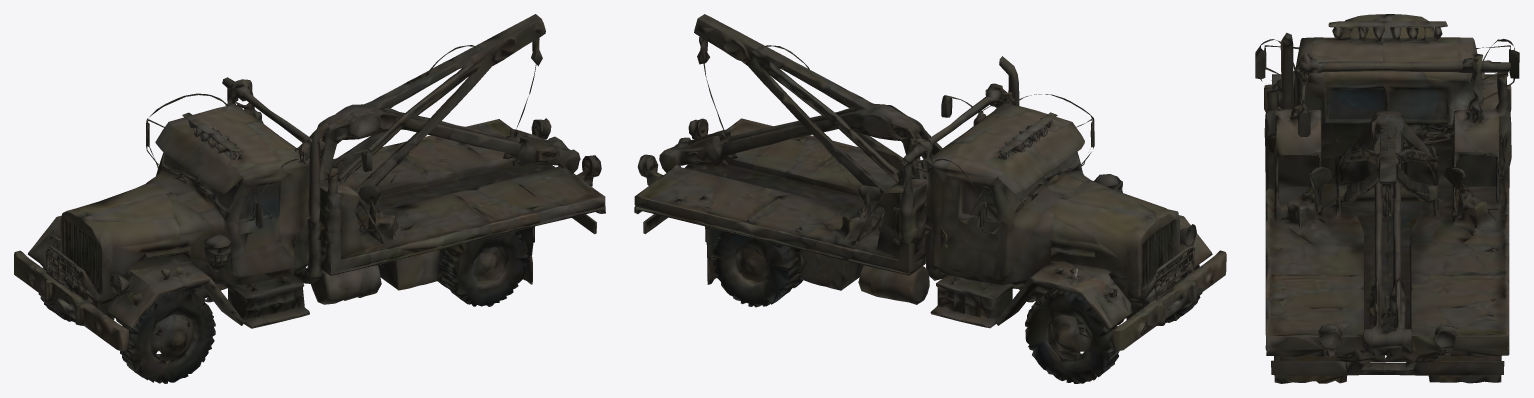
Rendered from car_towtruck_light_q2.glb.
The picture shows the model from 3 angles, left to right: view 1: azimuth 30°, elevation 25°; view 2: azimuth 150°, elevation 25°; view 3: azimuth 270°, elevation 25°; orthographic projection. The views are drawn at different scales.
Size of the model in its own units: 5.33 by 2.3 by 2.08.
Materials: 1 (1 with a texture image).
